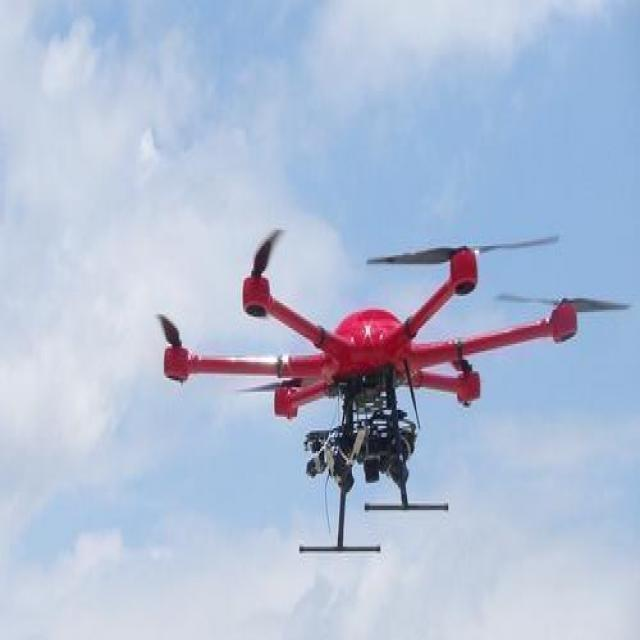UAV: (163, 239, 581, 558)
